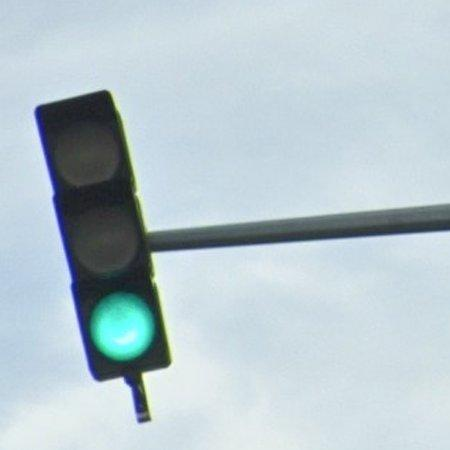traffic lights: (35, 89, 174, 383)
